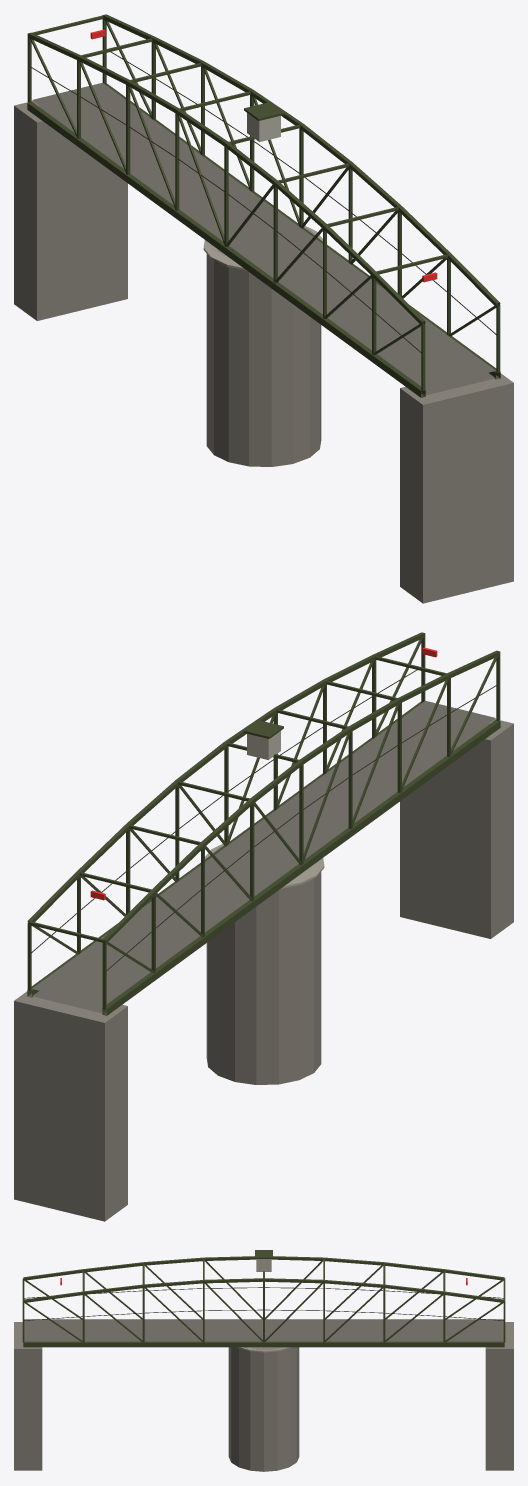
Rendered from govswing.glb.
3 views of the same model, one above another, from view 1: azimuth 30°, elevation 25°; view 2: azimuth 150°, elevation 25°; view 3: azimuth 270°, elevation 25° (orthographic). The views are drawn at different scales.
Visible parts, largest first — view 1: govswing_lod0; view 2: govswing_lod0; view 3: govswing_lod0.
Boxes of the visible parts, x1=… form: govswing_lod0: x1=14, y1=14, x2=513, y2=603; govswing_lod0: x1=14, y1=632, x2=513, y2=1221; govswing_lod0: x1=14, y1=1250, x2=513, y2=1471.
Size of what is drawn, in the model's own units: 15.8 by 47.5 by 106.
